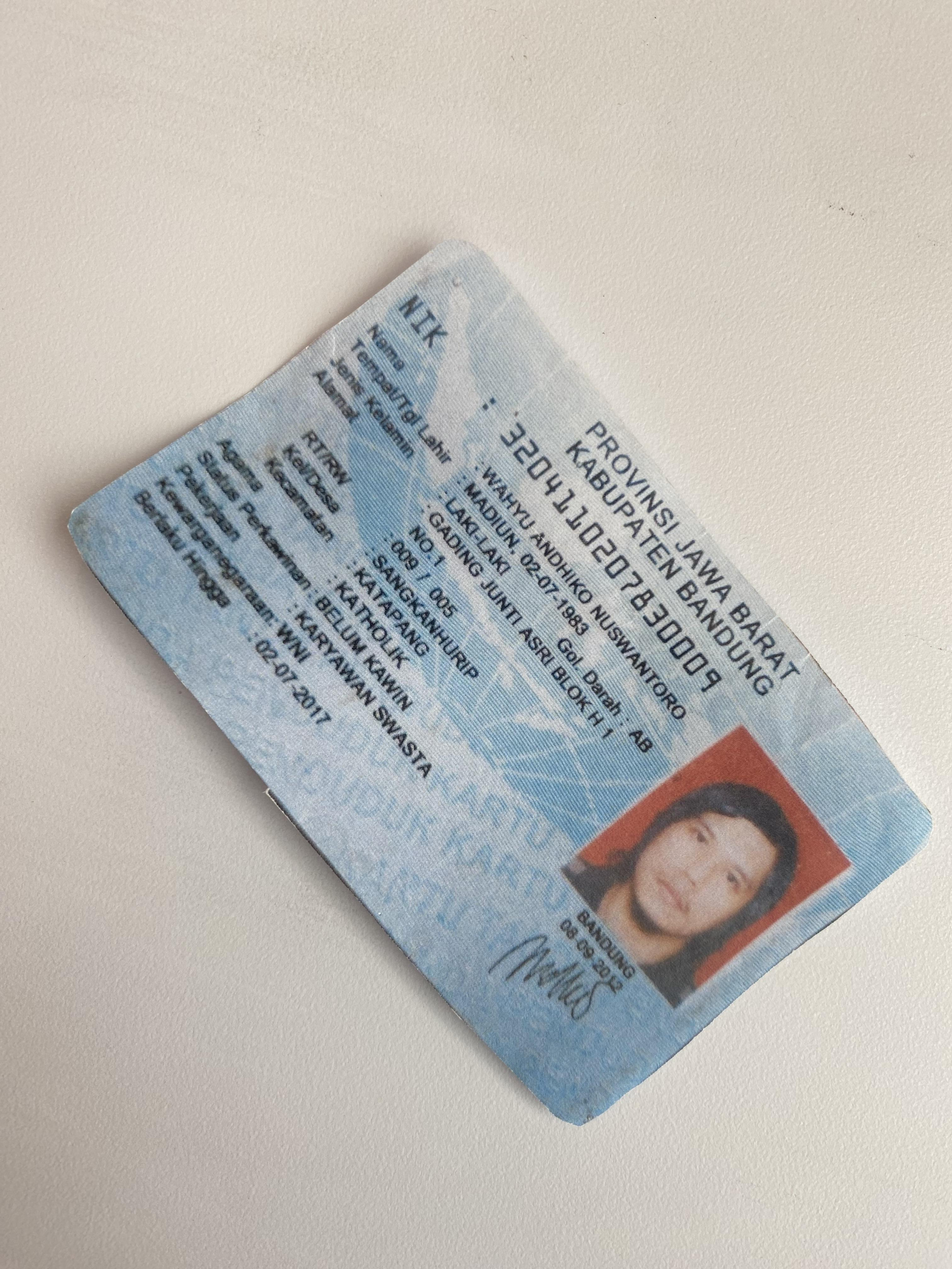ktp: (41, 237, 935, 1137)
